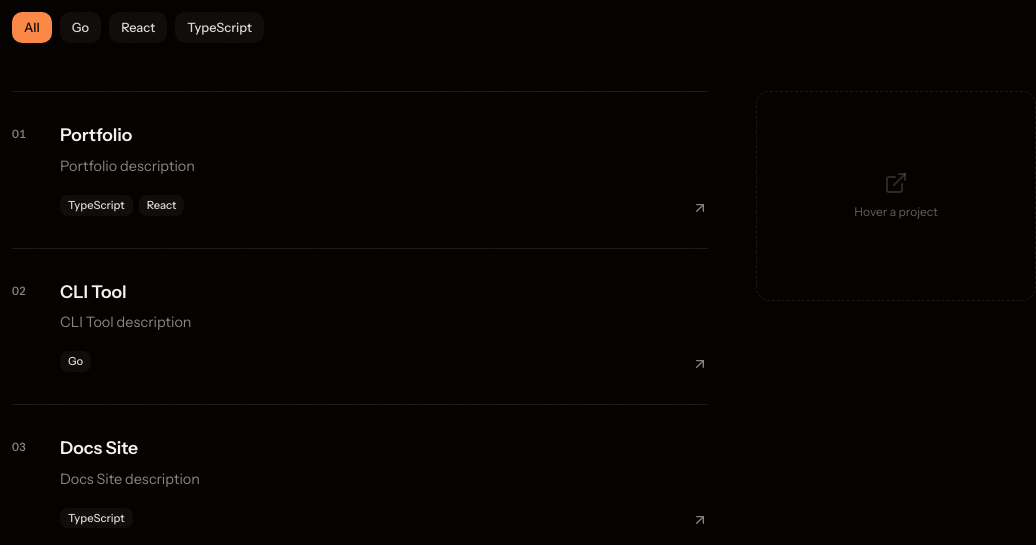
Test: ProjectGrid › filters projects to those that include the selected technology
The width and height of the screenshot is (1036, 545).
Click the button "TypeScript": (220, 28) [175,12,264,43]
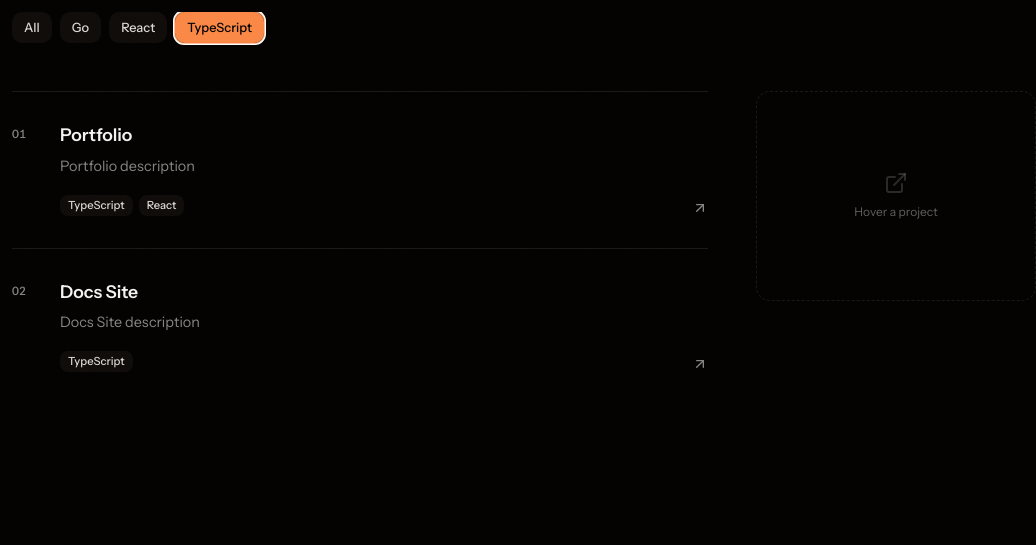
Expected: the link "Portfolio" is shown, [60,124,132,145]
Expected: the link "CLI Tool" is gone
